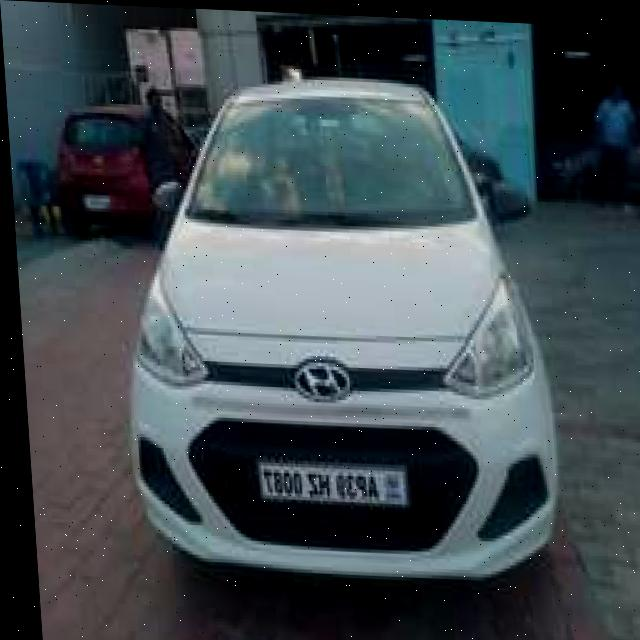plate: (250, 455, 399, 508)
